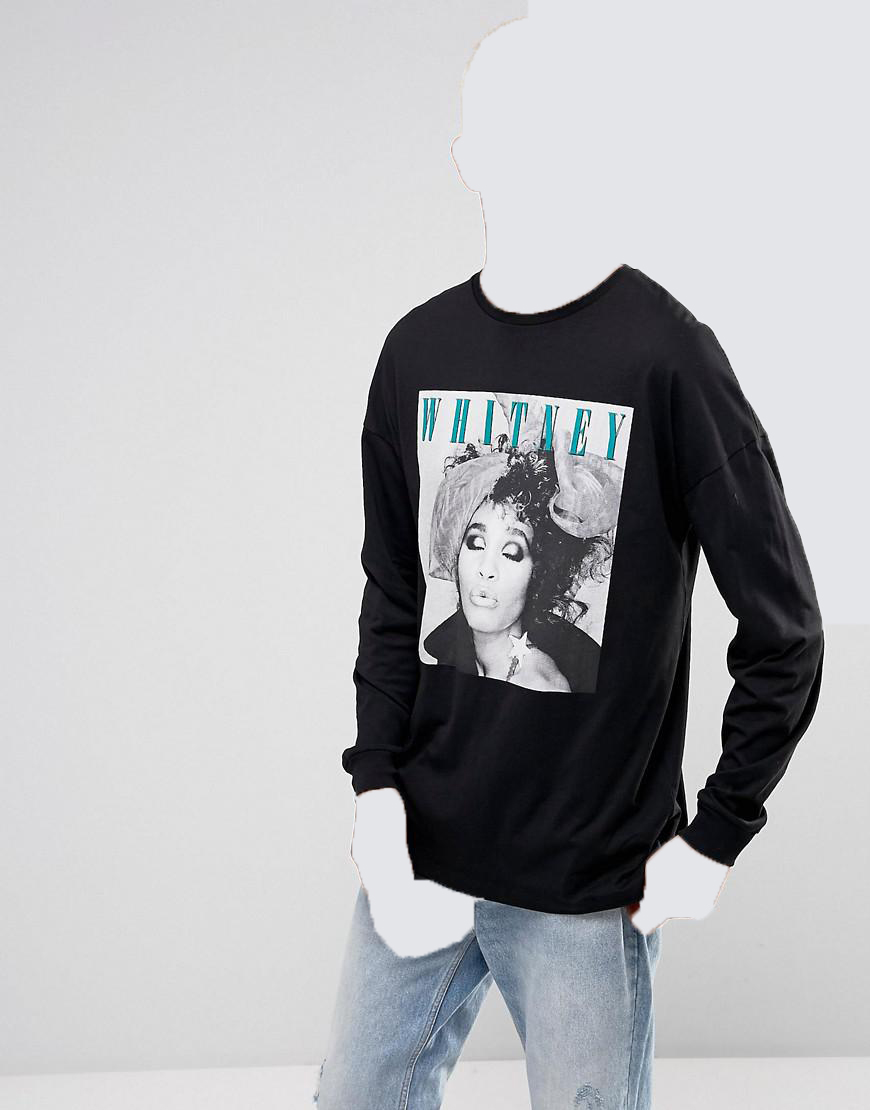teeshirt: (342, 257, 829, 929)
